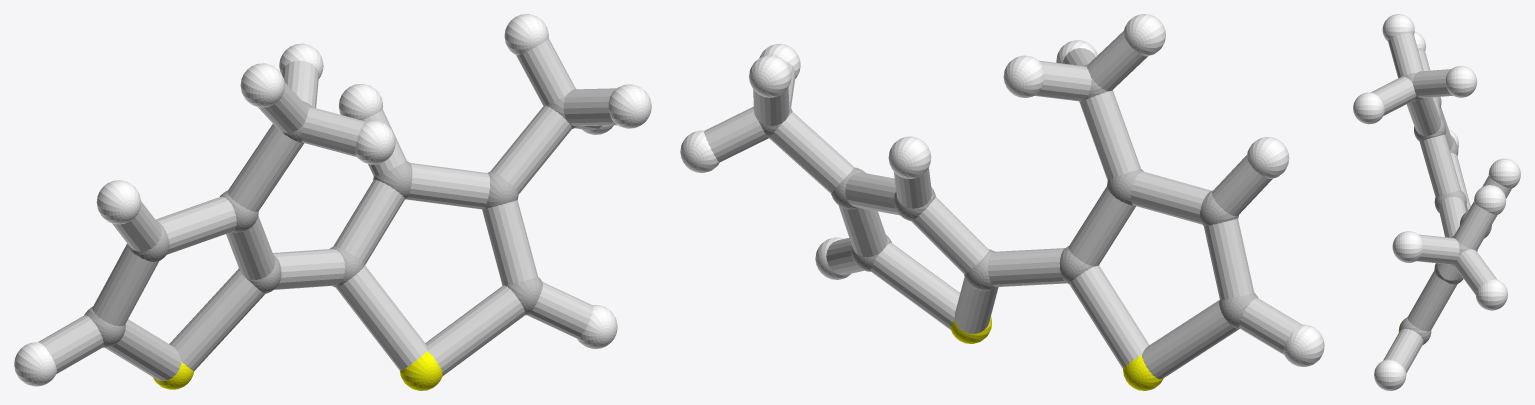
The model's file is Methylthiophene_Phi_25_Theta_140_Methylthiophene.glb.
3 renders of one model, left to right at view 1: azimuth 30°, elevation 25°; view 2: azimuth 150°, elevation 25°; view 3: azimuth 270°, elevation 25°, orthographic. The views are drawn at different scales.
Visible parts, largest first — view 1: grp7965, grp3621, grp1, grp7241; view 2: grp7965, grp3621, grp1, grp7241; view 3: grp7965, grp3621, grp1.
Boxes of the visible parts, x1,y1,x2,y2 form: grp7965: [38, 38, 617, 381]; grp3621: [14, 14, 651, 386]; grp1: [84, 89, 577, 347]; grp7241: [153, 351, 442, 390]; grp7965: [704, 31, 1301, 379]; grp3621: [680, 14, 1324, 366]; grp1: [753, 64, 1258, 328]; grp7241: [950, 317, 1163, 390]; grp7965: [1371, 33, 1511, 373]; grp3621: [1353, 14, 1520, 390]; grp1: [1399, 73, 1491, 344].
Size of the model in its own units: 9.85 by 5.56 by 3.13.
